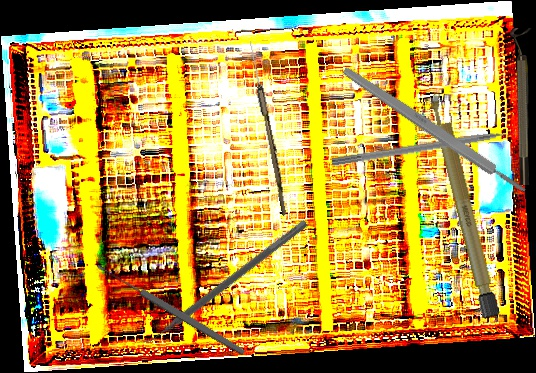Fixation Ring: (510, 28, 532, 185)
Pusher: (331, 126, 529, 169)
Scalpel Handle: (340, 64, 529, 197), (426, 86, 501, 322)
Spatula Surgical: (136, 212, 309, 353)
Surgical Spoon: (95, 260, 247, 358), (245, 40, 291, 216)
